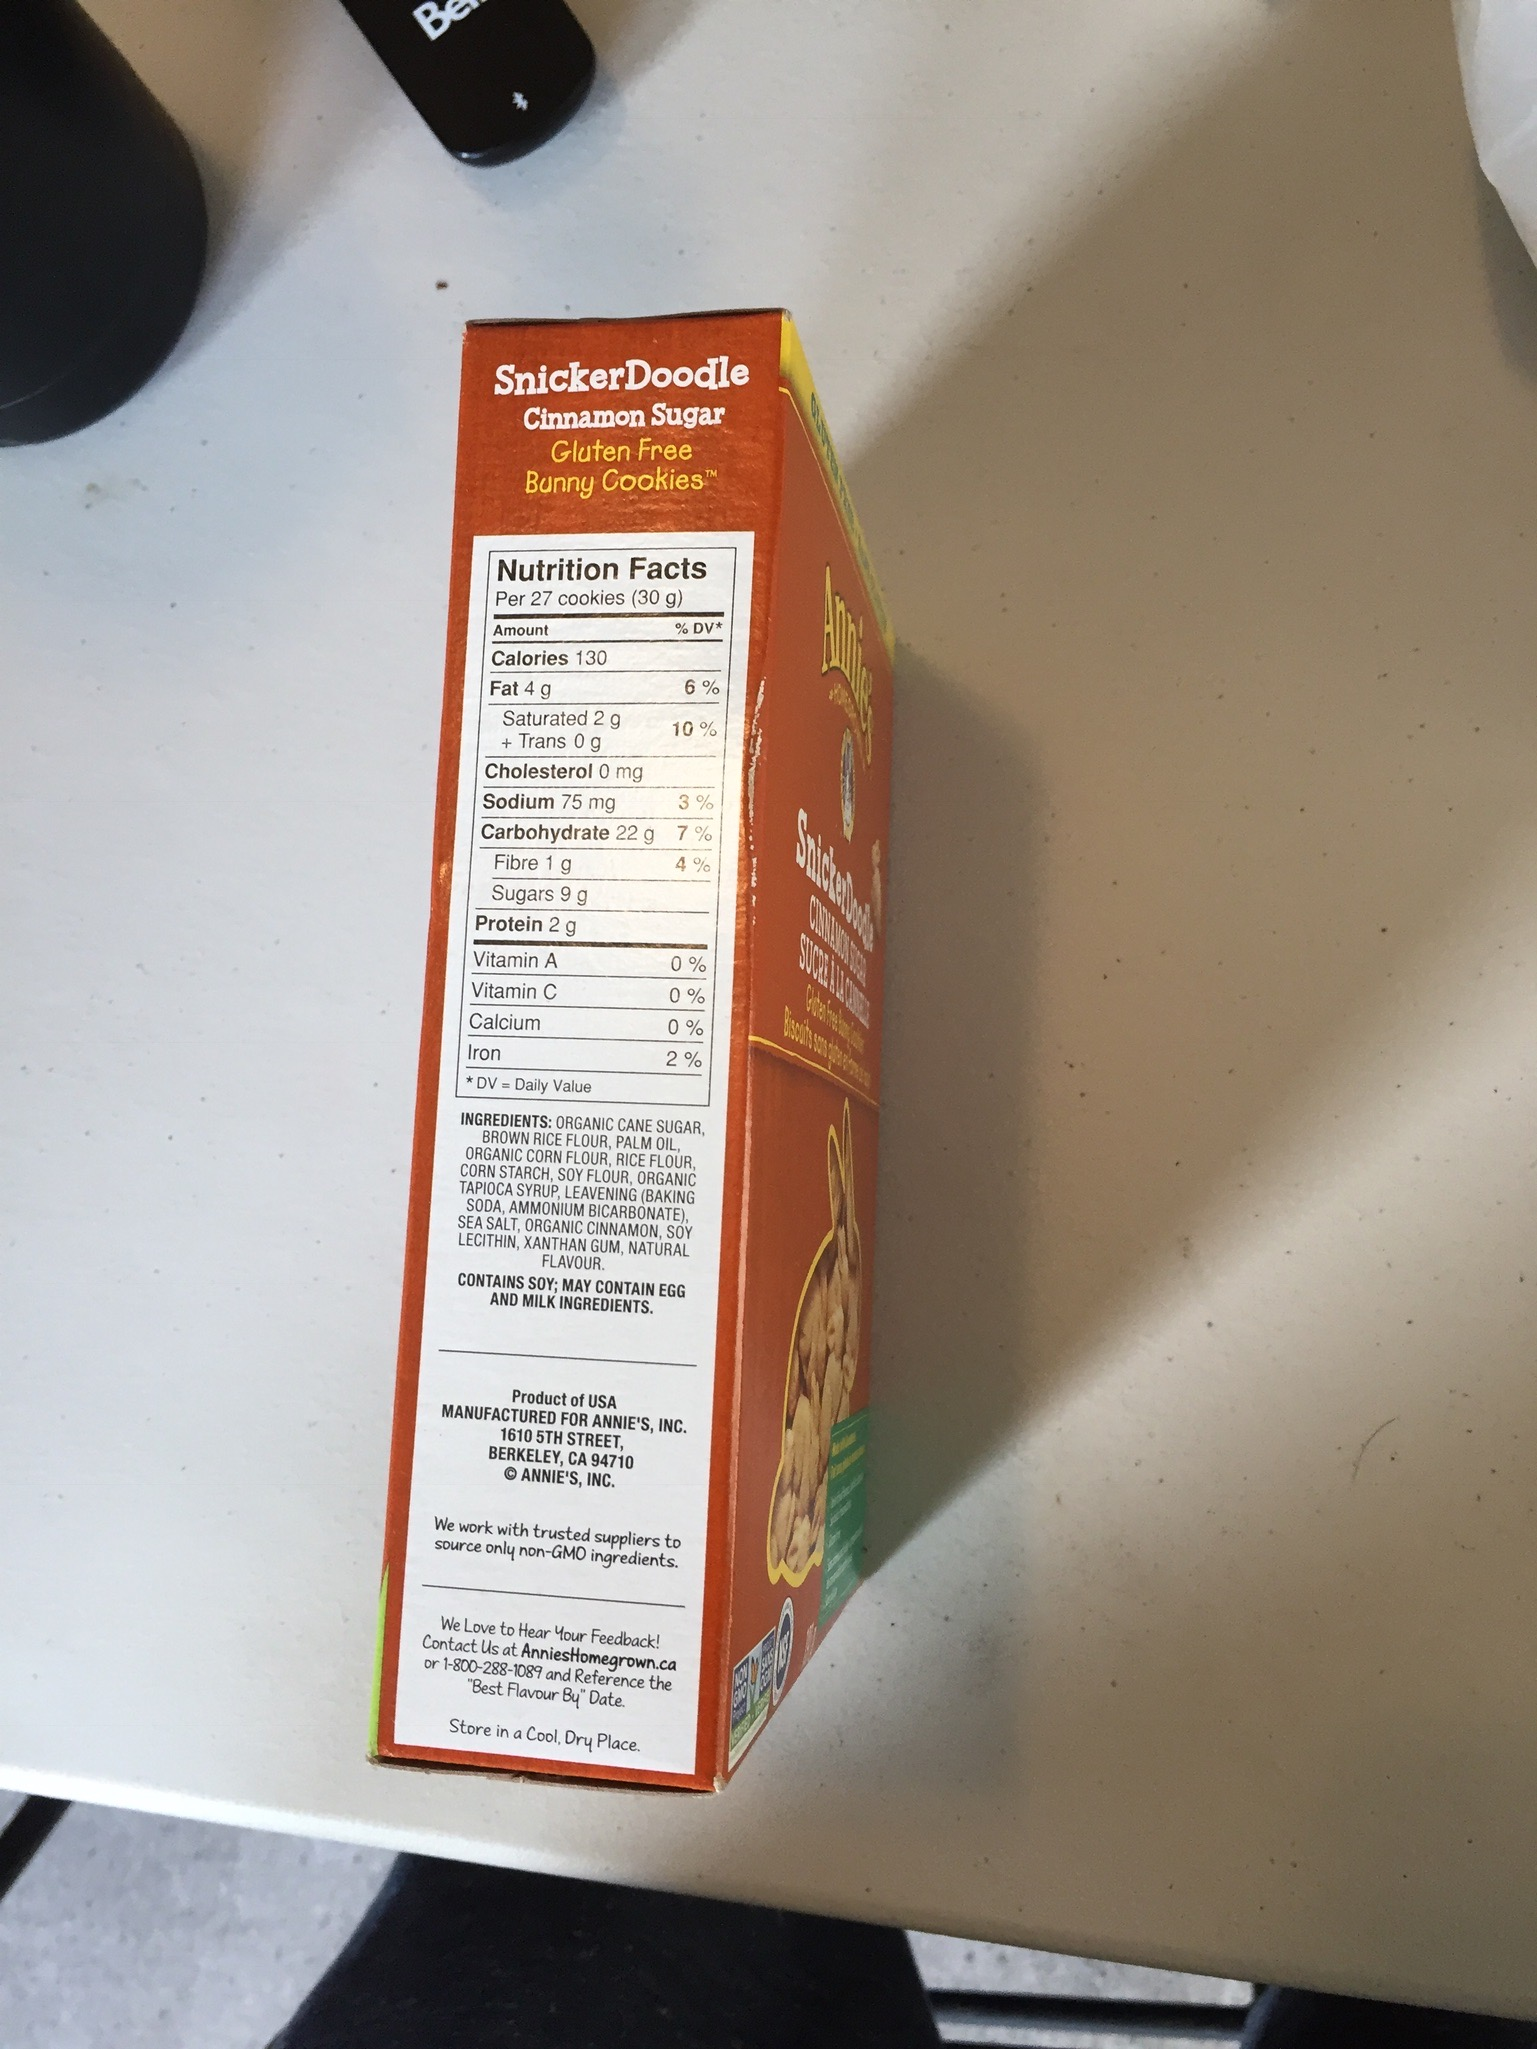annies_snickerdoodles_cinnamon_sugar: (471, 341, 727, 1773)
